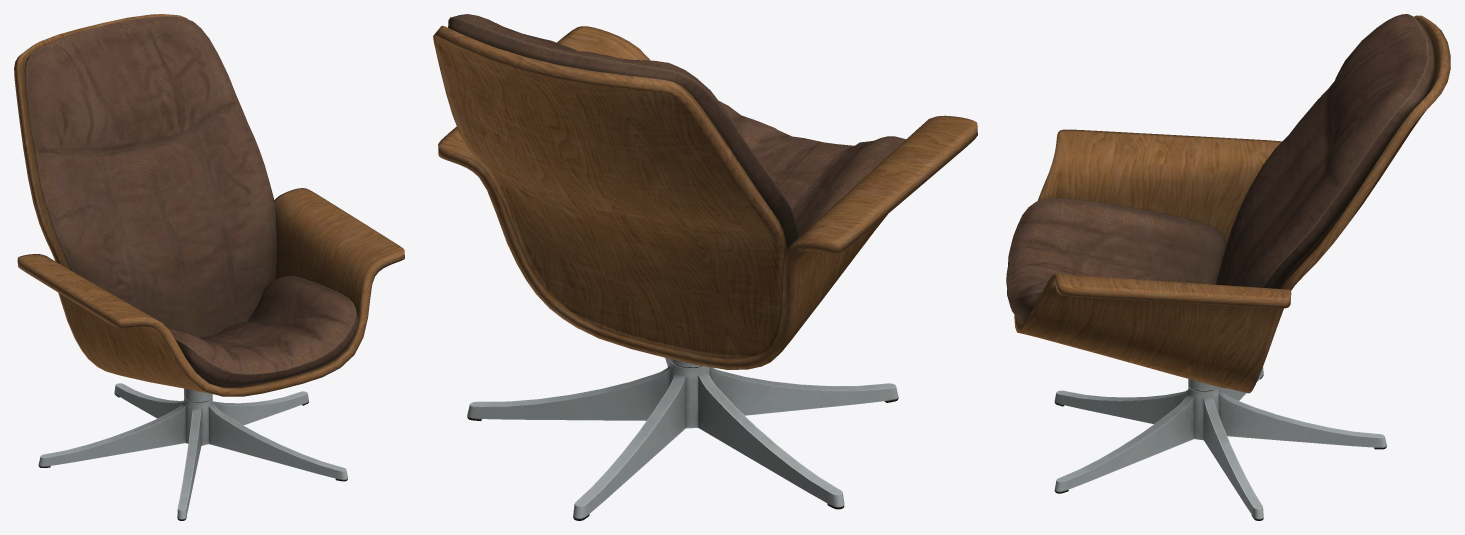
Rendered from chair.glb.
The picture shows the model from 3 angles, left to right: view 1: azimuth 30°, elevation 25°; view 2: azimuth 150°, elevation 25°; view 3: azimuth 270°, elevation 25°; orthographic projection. The views are drawn at different scales.
Visible parts, largest first — view 1: mid_century_lounge_chair; view 2: mid_century_lounge_chair; view 3: mid_century_lounge_chair.
Part boxes in pixels (<box>): mid_century_lounge_chair: <box>14,14,404,520</box>; mid_century_lounge_chair: <box>433,14,977,520</box>; mid_century_lounge_chair: <box>1006,14,1450,520</box>.
Bounding box in the file's own units: 1.01 × 1.17 × 1.19.
Materials: 1 (1 with a texture image).
